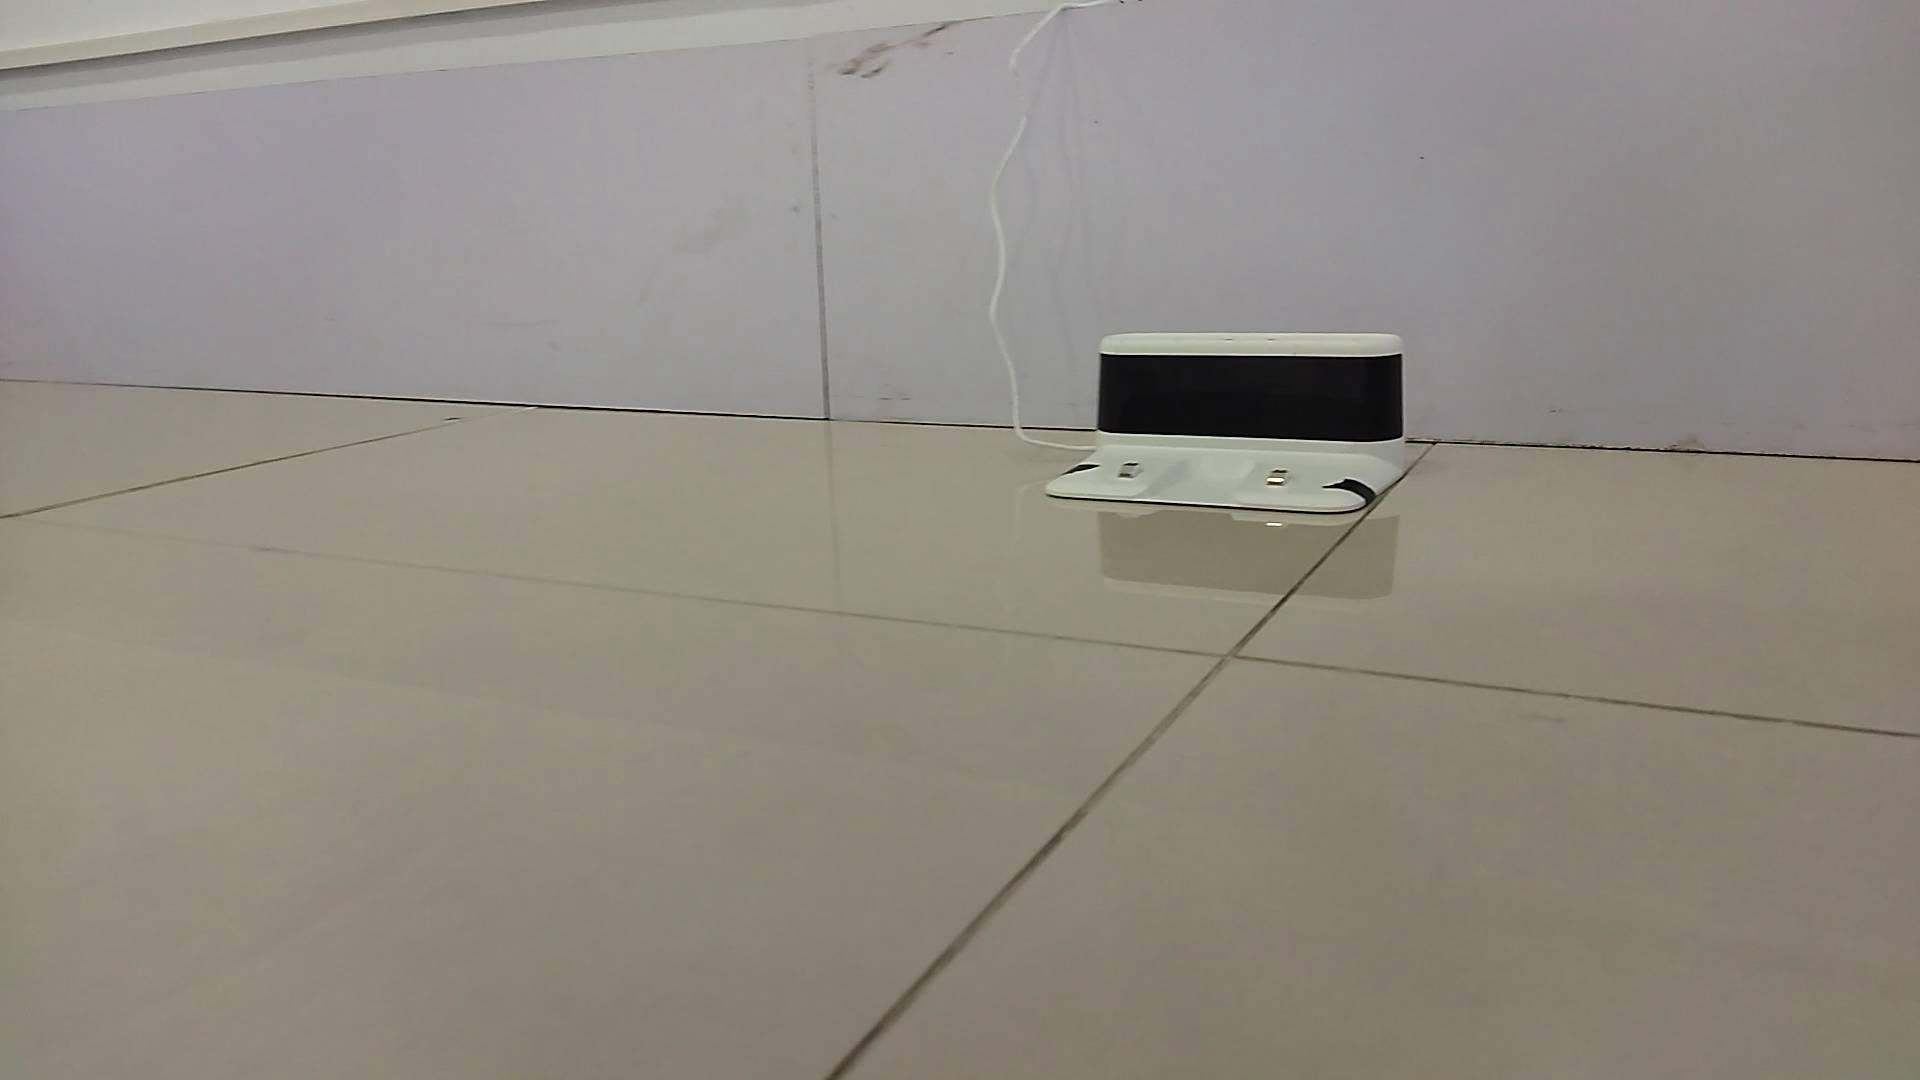recharge seat: (1043, 332, 1412, 514)
